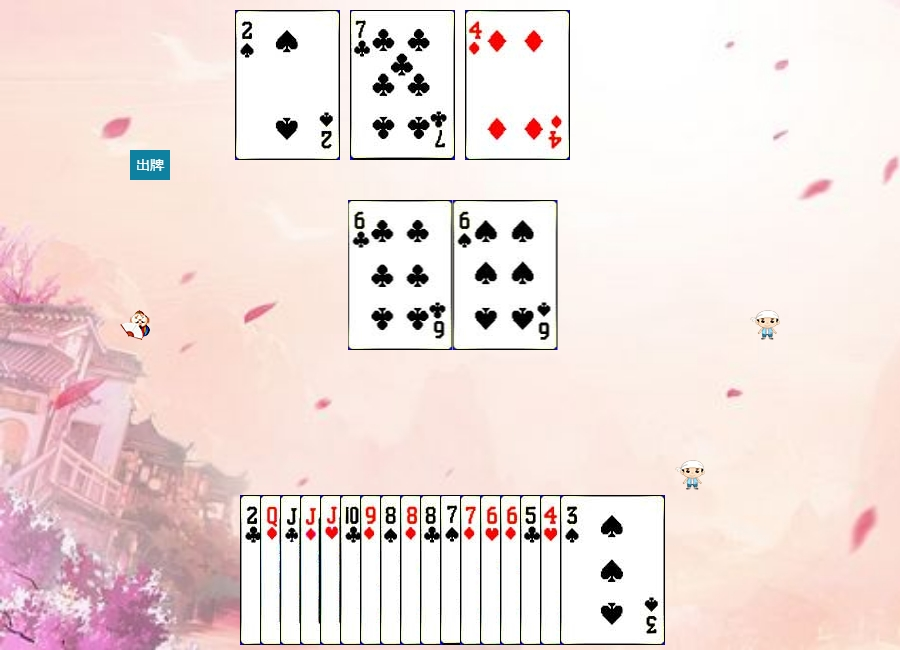10~2: (340, 495, 445, 645)
11~1: (300, 495, 405, 645)
11~2: (280, 495, 385, 645)
11~3: (320, 495, 425, 645)
12~1: (260, 495, 365, 645)
15~2: (240, 495, 345, 645)
15~4: (235, 10, 340, 160)
3~4: (560, 495, 665, 645)
4~1: (465, 10, 570, 160)
4~3: (540, 495, 645, 645)
5~2: (520, 495, 625, 645)
6~1: (500, 495, 605, 645)
6~2: (348, 200, 453, 350)
6~3: (480, 495, 585, 645)
6~4: (453, 200, 558, 350)
7~1: (460, 495, 565, 645)
7~2: (350, 10, 455, 160)
7~4: (440, 495, 545, 645)
8~1: (400, 495, 505, 645)
8~2: (420, 495, 525, 645)
8~4: (380, 495, 485, 645)
9~1: (360, 495, 465, 645)
